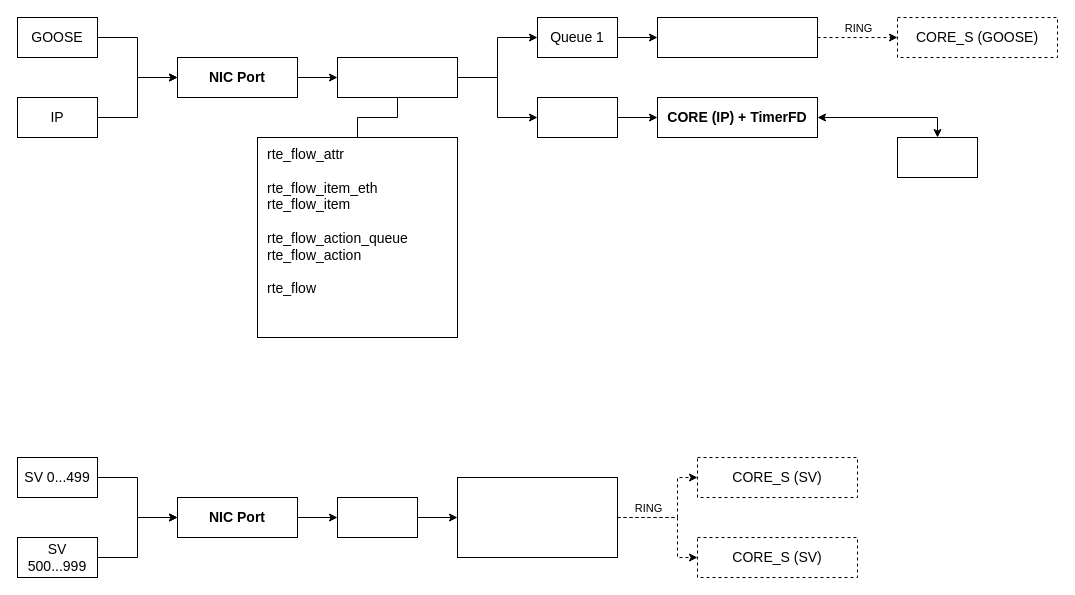
Some shapes in this 1075 by 595 pixel diagram are drawn without their labels. The shapes that lost their labels are listed below. From the top down, each one's centre as x and y in pixels, then its label:
the point at 737,37: CORE_Main (GOOSE)
the point at 397,77: Flow rules
the point at 577,117: Queue 2
the point at 937,157: TAP / KNI
the point at 377,517: Queue
the point at 537,517: CORE_Main (SV) Process SV + Dispatch by AppID to (S)
